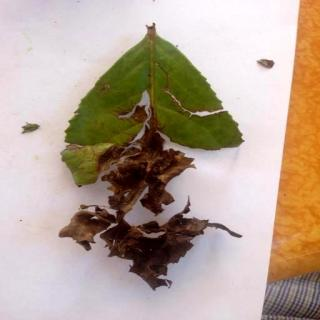Brown Blight: (63, 22, 244, 294)
